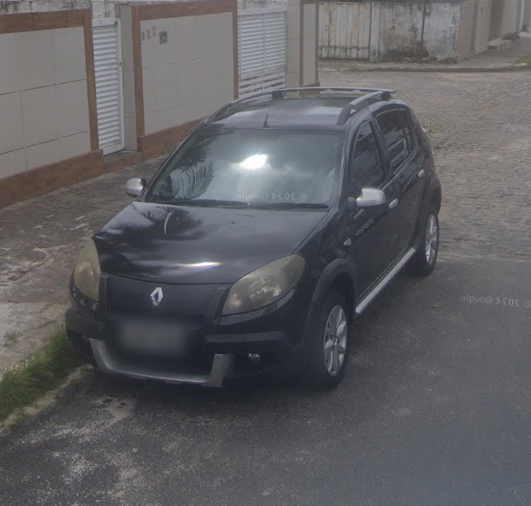car: (66, 82, 444, 394)
